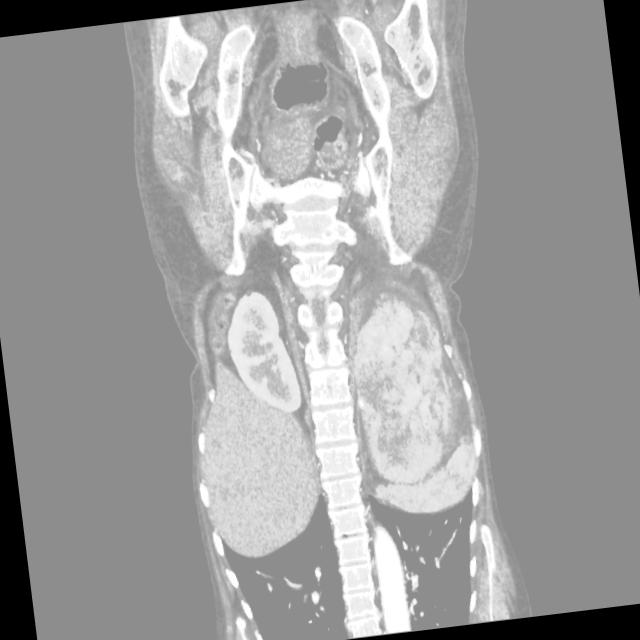TUMOR: (182, 231, 423, 406)
